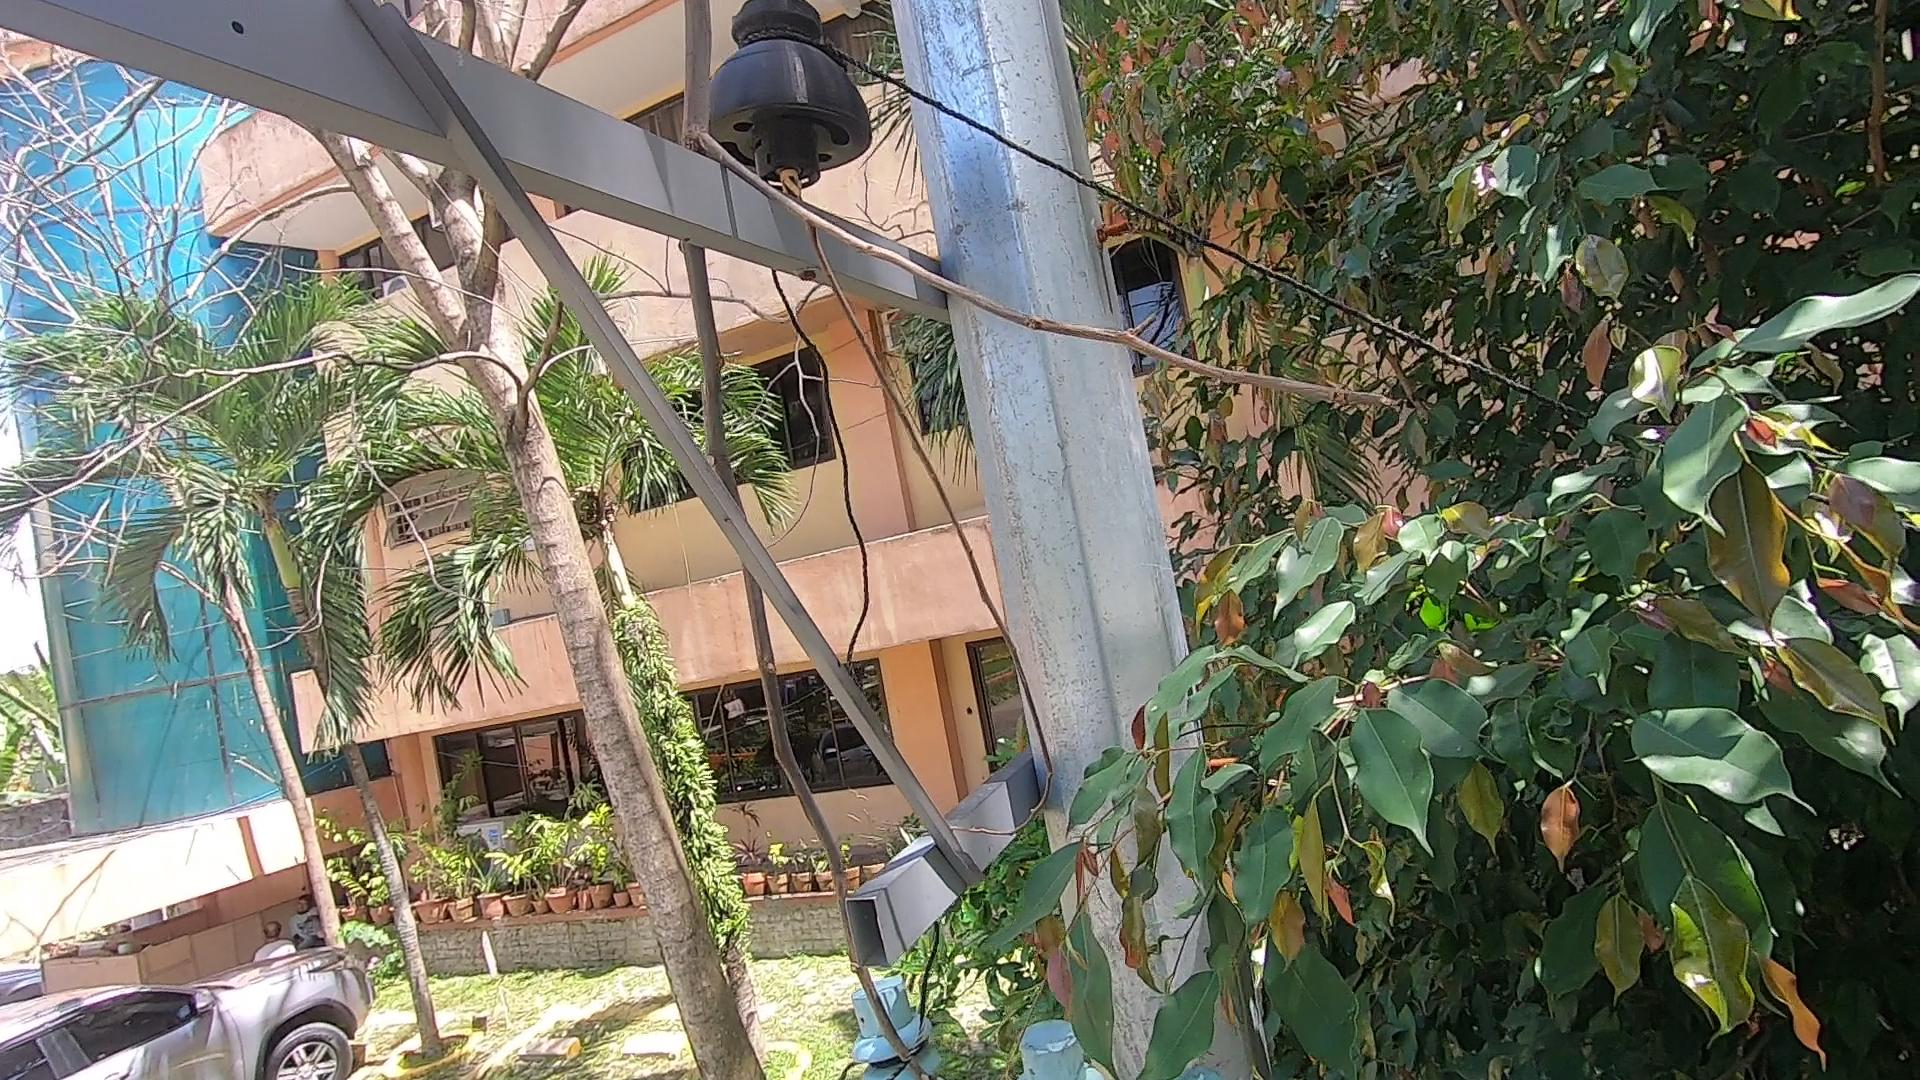branch with leaves: (978, 839, 1374, 1080)
tree branch: (632, 3, 1422, 1058)
